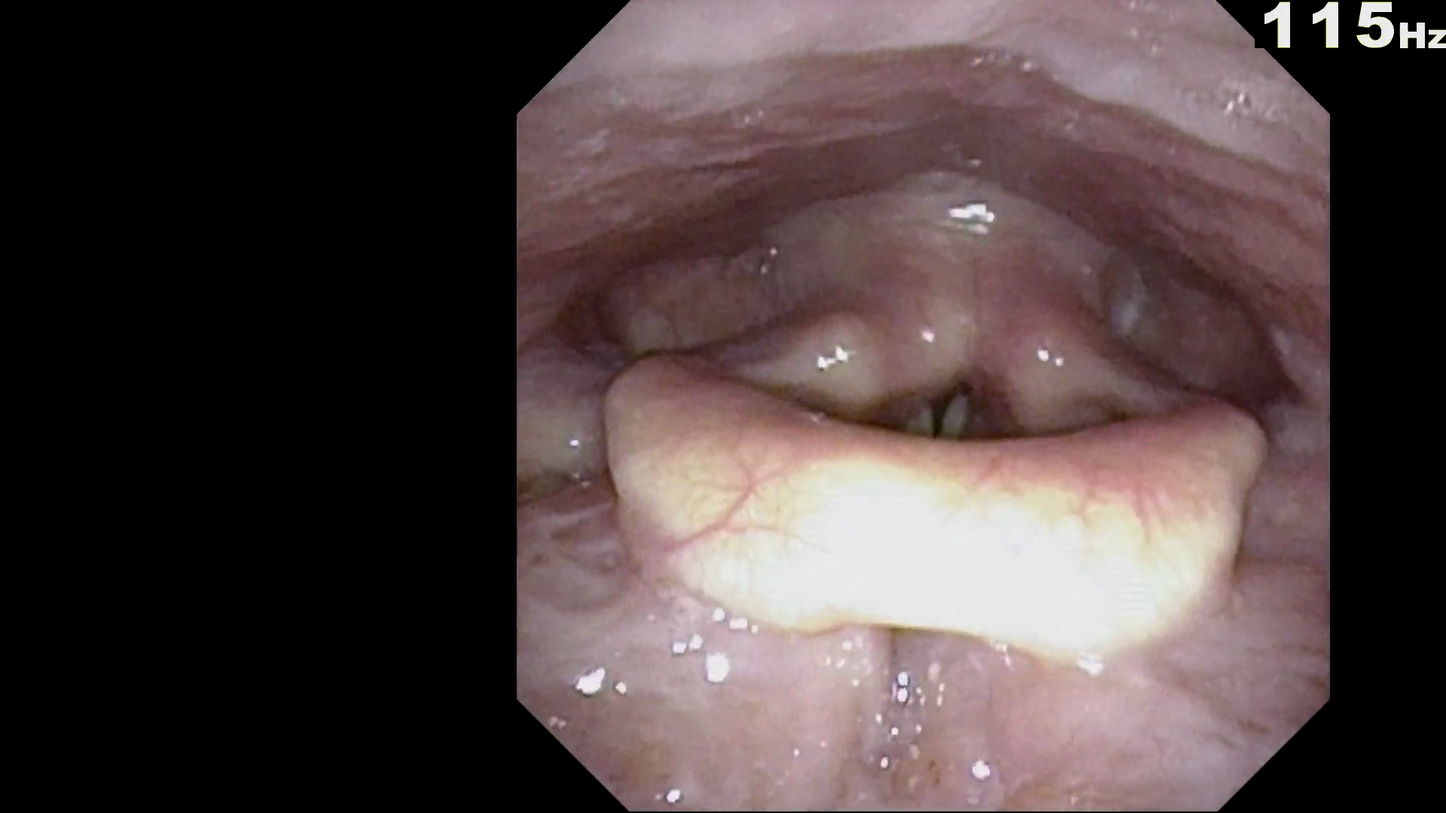epiglottis: (589, 340, 1279, 668)
trachea: (862, 306, 1041, 531)
